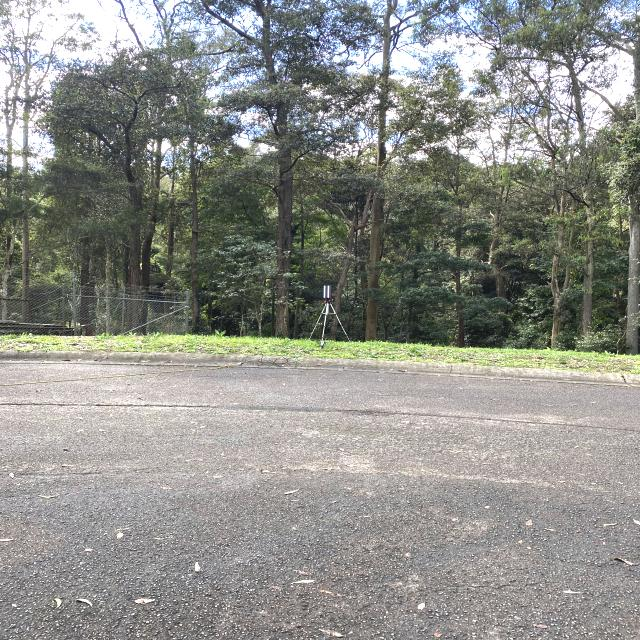matrix: (321, 285, 334, 299)
